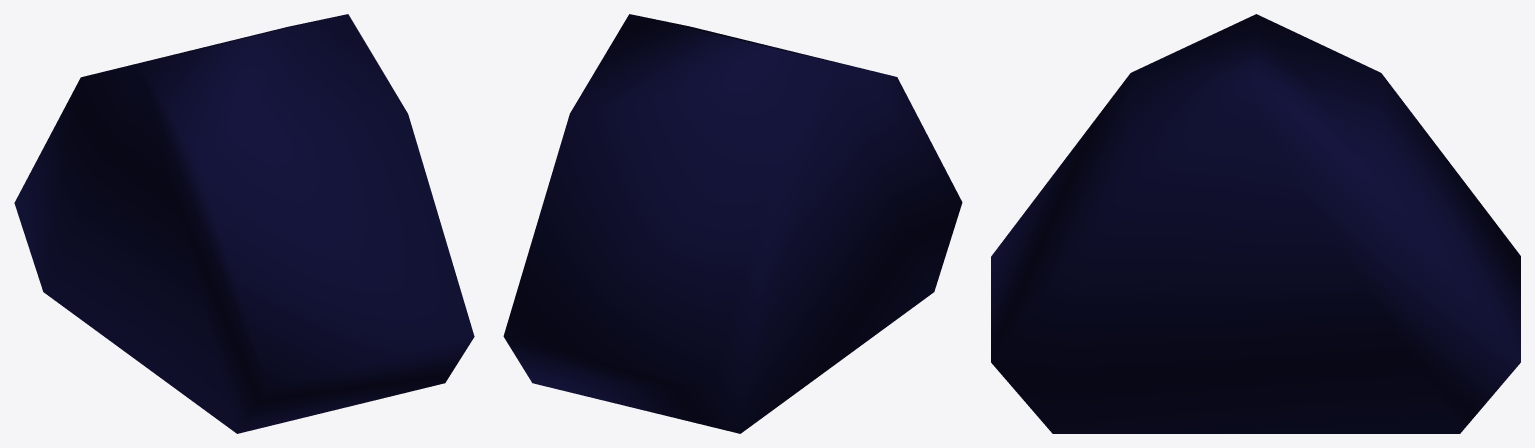
File: TankTrack.fbx
3 views of the same model, side by side, from view 1: azimuth 30°, elevation 25°; view 2: azimuth 150°, elevation 25°; view 3: azimuth 270°, elevation 25° (orthographic). The views are drawn at different scales.
Visible parts, largest first — view 1: Simple; view 2: Simple; view 3: Simple.
Part boxes in pixels (x1,y1,x2,y2): Simple: (14, 14, 474, 433); Simple: (503, 14, 962, 433); Simple: (991, 14, 1520, 433).
Bounding box in the file's own units: 99.98 × 137 × 210.
